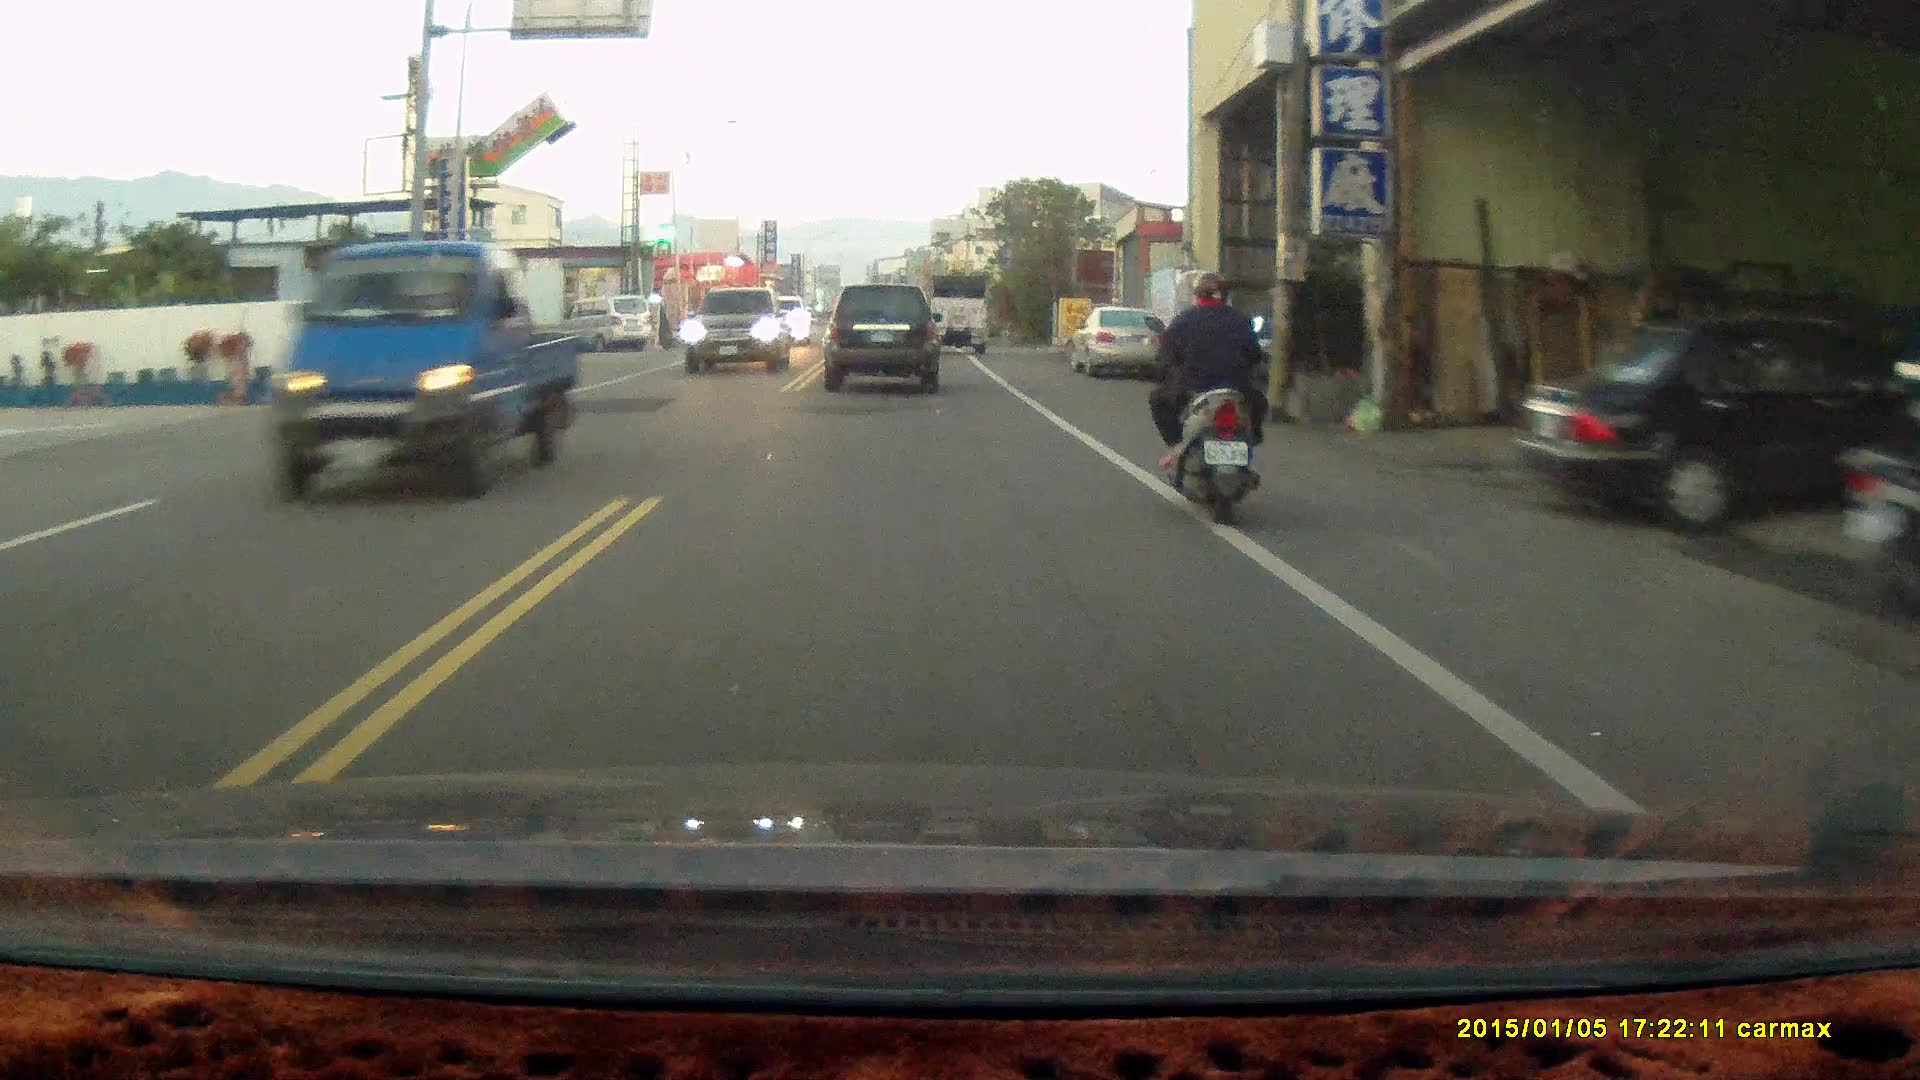rider: (1141, 263, 1269, 526)
vehicle: (1516, 305, 1917, 539), (268, 241, 586, 501), (826, 282, 942, 395), (687, 282, 798, 370), (1075, 306, 1163, 381), (926, 270, 995, 352), (560, 292, 654, 351)
